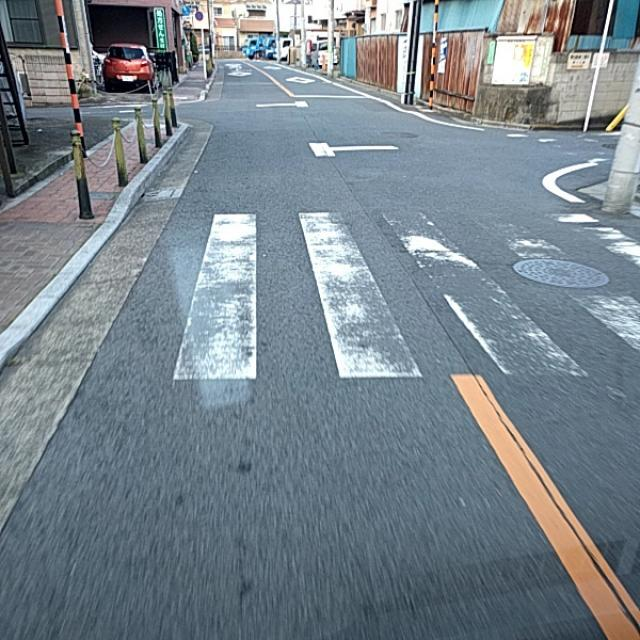pothole: (237, 428, 259, 535)
